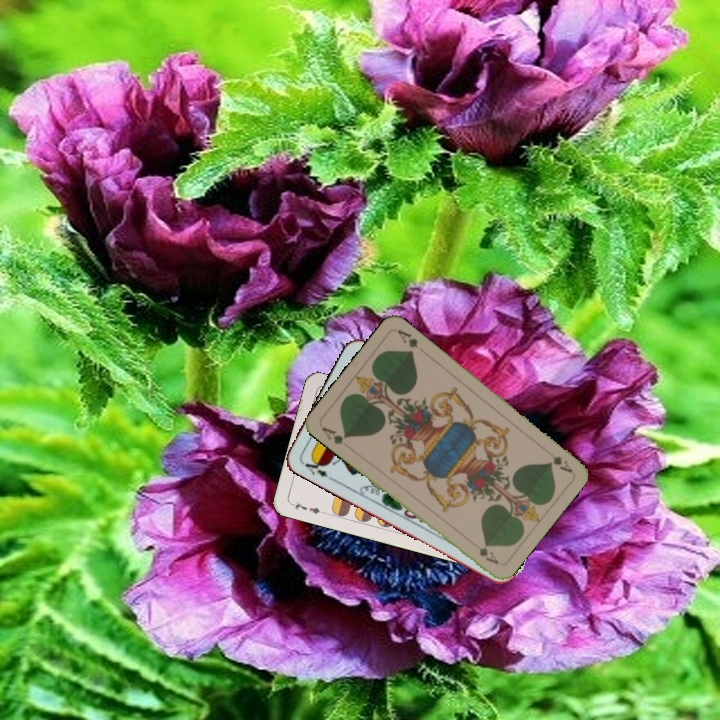E7: (287, 497, 327, 517)
EA: (301, 454, 335, 483)
GA: (540, 444, 575, 475), (317, 423, 350, 447)
